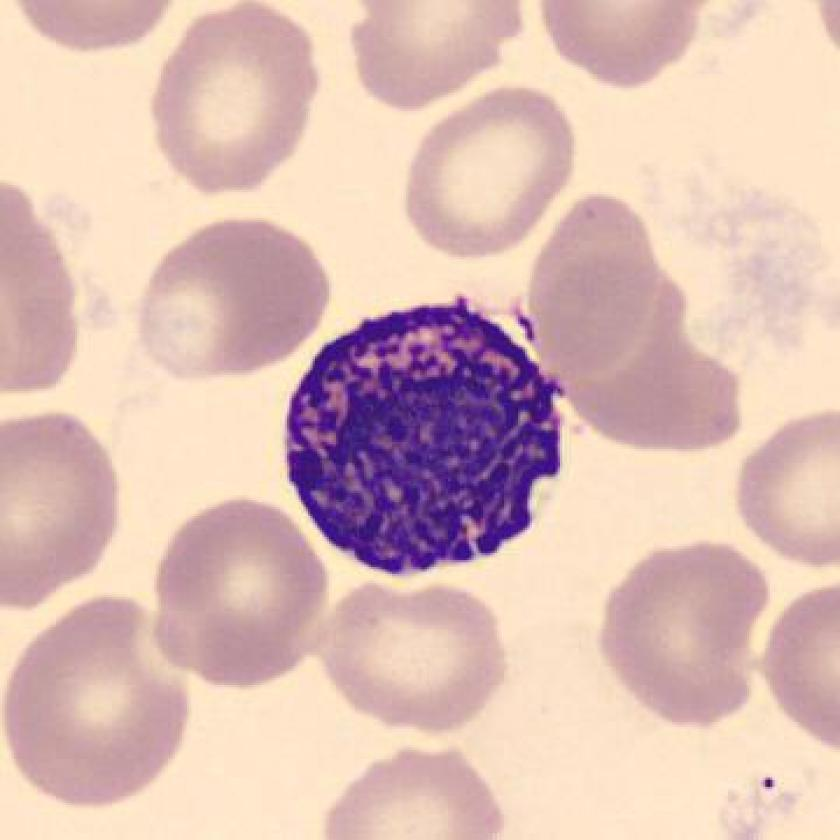basophil: (279, 295, 566, 577)
